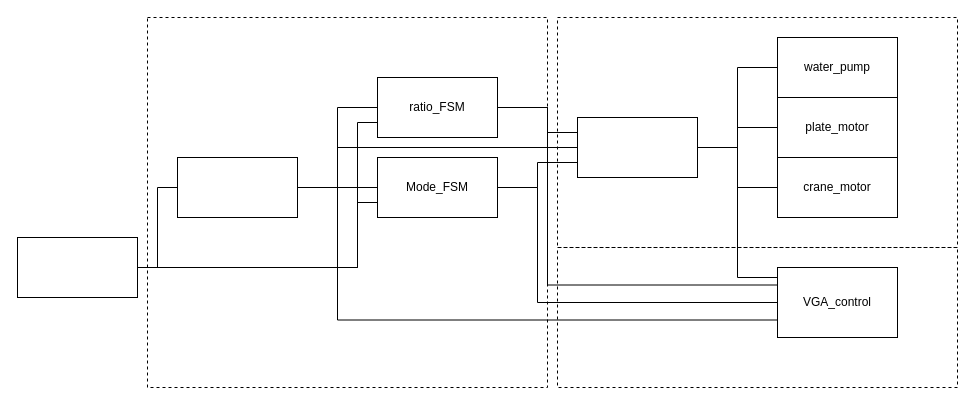
Some shapes in this 975 by 405 pixel diagram are drawn without their labels. Here are the shapes that lost their labels. From the top down, the centre of each, then its label:
(637,147): pouring_state_FSM
(237,187): state_FSM
(77,267): keyboard
